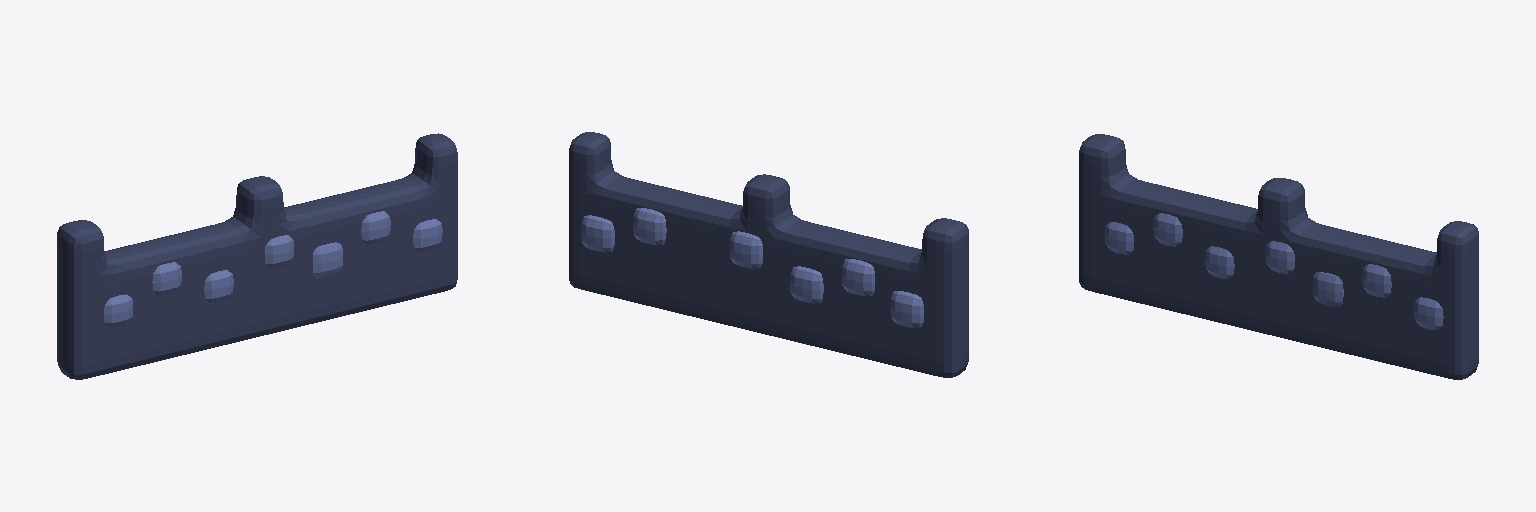
Rendered from wall.obj.
The picture shows the model from 3 angles: view 1: azimuth 30°, elevation 25°; view 2: azimuth 150°, elevation 25°; view 3: azimuth 330°, elevation 25°; orthographic projection.
Parts seen in each view (by area): view 1: Plane.007_Plane.009; view 2: Plane.007_Plane.009; view 3: Plane.007_Plane.009.
Part boxes in pixels (x1,y1,x2,y2): Plane.007_Plane.009: (57, 133, 457, 379); Plane.007_Plane.009: (569, 132, 968, 377); Plane.007_Plane.009: (1079, 134, 1478, 379).
Bounding box in the file's own units: 10.85 × 4 × 1.34.